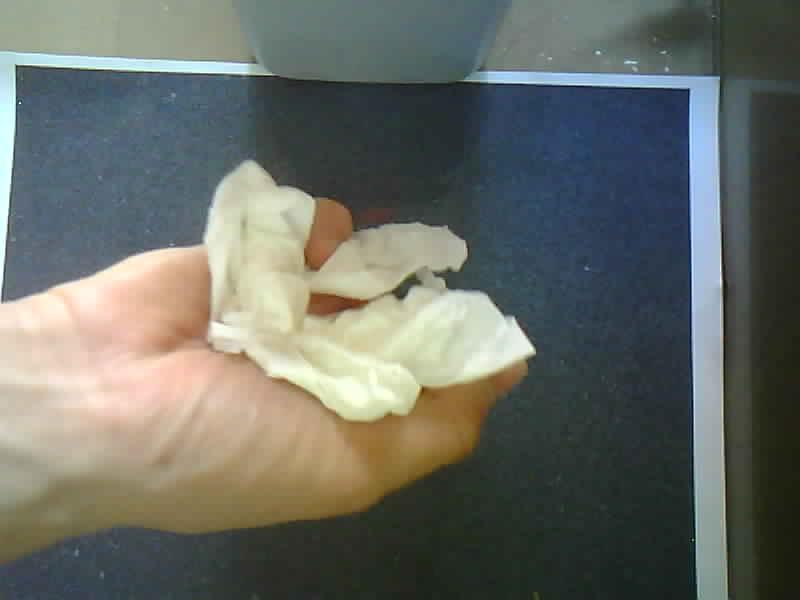paper: (205, 161, 533, 422)
